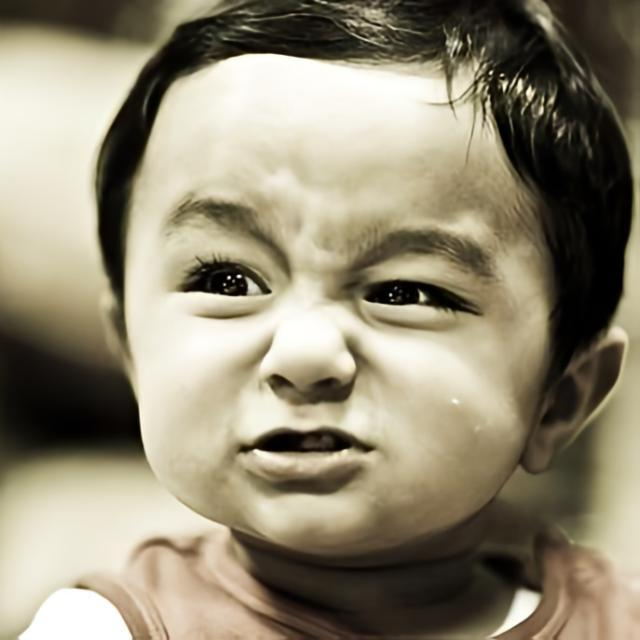anger: (124, 54, 536, 549)
